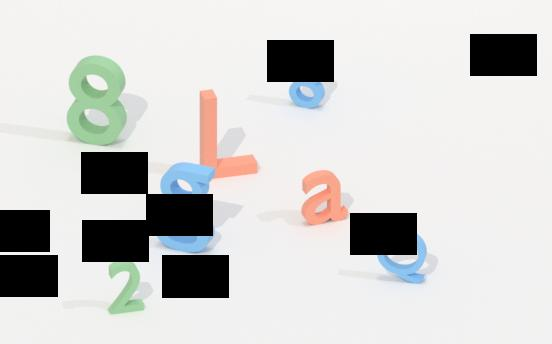2: (104, 252, 151, 324)
8: (65, 52, 130, 150), (287, 49, 330, 111)
a: (296, 164, 351, 238)
g: (154, 158, 222, 262)
l: (191, 83, 261, 188)
q: (375, 227, 431, 287)
